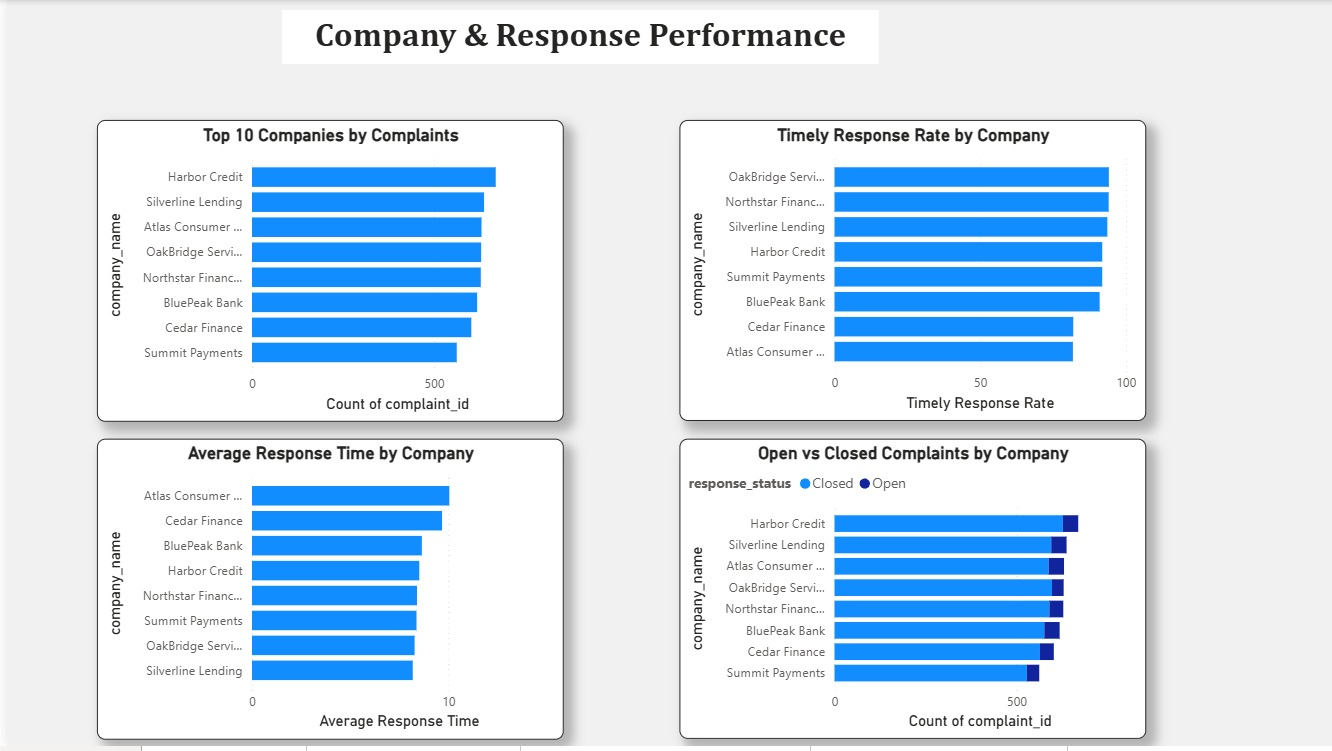

This screenshot's page, from the dashboard's own definition file:
{"tool":"powerbi","page":{"name":"Company & Response Performance","canvas":[1280,720],"ordinal":2},"visuals":[{"type":"textbox","box":[264.8,9.6,576.3,52.1],"z":0},{"type":"clusteredBarChart","title":"\tTop 10 Companies by Complaints","fields":{"Category":["Cleaned Data.company_name"],"Y":["CountNonNull(Cleaned Data.complaint_id)"]},"box":[86.4,115.3,450.1,290.9],"z":1000},{"type":"clusteredBarChart","title":"\tTimely Response Rate by Company","fields":{"Category":["Cleaned Data.company_name"],"Y":["Cleaned Data.Timely Response Rate"]},"box":[649.1,115.3,450.1,290],"z":2000},{"type":"barChart","title":"\tAverage Response Time by Company","fields":{"Category":["Cleaned Data.company_name"],"Y":["Cleaned Data.Average Response Time"]},"box":[86.4,424,450.1,290],"z":3000},{"type":"barChart","title":"\tOpen vs Closed Complaints by Company","fields":{"Category":["Cleaned Data.company_name"],"Y":["CountNonNull(Cleaned Data.complaint_id)"],"Series":["Cleaned Data.response_status"]},"box":[649.1,424,450.1,289.5],"z":3001}]}

Visuals, with their boxes in screenshot pixels (x1, y1, x2, y2), scaled from the page's 1280x720 canvas onto the 1332x751 screenshot:
textbox: crop(276, 10, 875, 64)
"	Top 10 Companies by Complaints" clusteredBarChart: crop(90, 120, 558, 424)
"	Timely Response Rate by Company" clusteredBarChart: crop(675, 120, 1144, 423)
"	Average Response Time by Company" barChart: crop(90, 442, 558, 745)
"	Open vs Closed Complaints by Company" barChart: crop(675, 442, 1144, 744)
